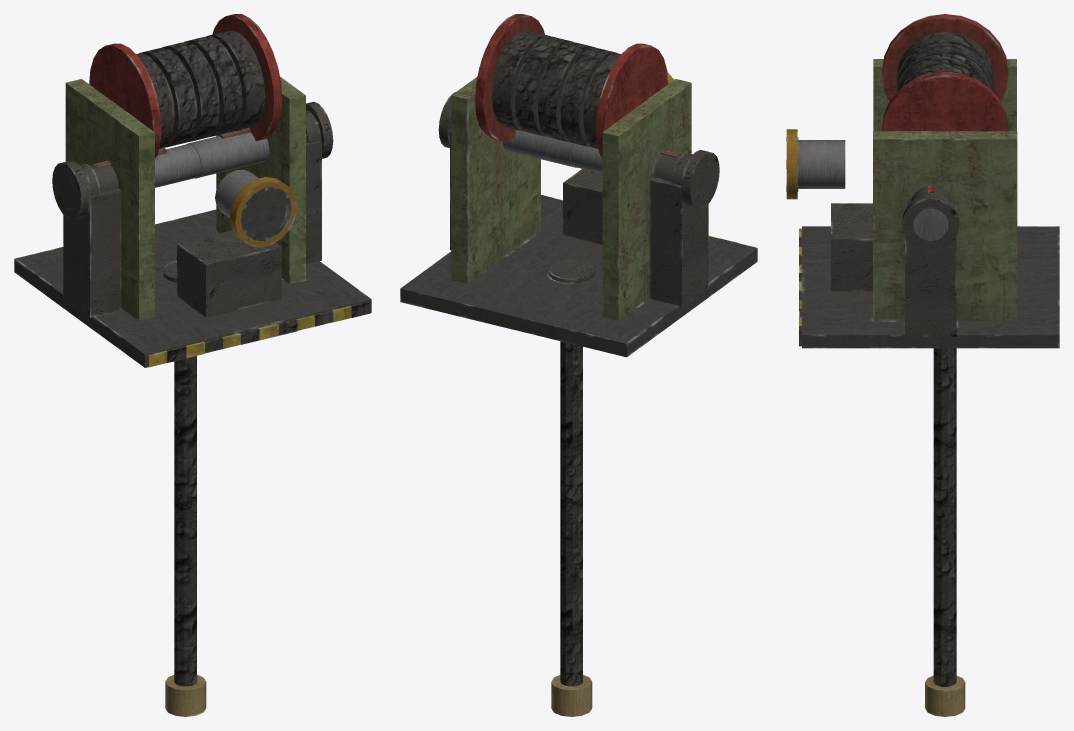
File: feHosePulley_HD.fbx
The picture shows the model from 3 angles, left to right: view 1: azimuth 30°, elevation 25°; view 2: azimuth 150°, elevation 25°; view 3: azimuth 270°, elevation 25°; orthographic projection.
Visible parts, largest first — view 1: feHosePulley_Base, FeSpin_x0.3_Reel, FeReach_Hose, FeSpin_DriveShaft; view 2: feHosePulley_Base, FeSpin_x0.3_Reel, FeReach_Hose, FeSpin_DriveShaft; view 3: feHosePulley_Base, FeSpin_x0.3_Reel, FeReach_Hose, FeSpin_DriveShaft.
Boxes of the visible parts, x1,y1,x2,y2 form: feHosePulley_Base: (14,76,371,367); FeSpin_x0.3_Reel: (89,14,282,158); FeReach_Hose: (165,356,206,716); FeSpin_DriveShaft: (52,102,333,219); feHosePulley_Base: (400,72,757,357); FeSpin_x0.3_Reel: (475,14,668,158); FeReach_Hose: (551,341,592,716); FeSpin_DriveShaft: (438,92,719,209); feHosePulley_Base: (786,59,1059,348); FeSpin_x0.3_Reel: (881,14,1008,131); FeReach_Hose: (925,348,965,716); FeSpin_DriveShaft: (902,186,959,250).
Bounding box in the file's own units: 1 × 2.56 × 0.9566.
Materials: 1 (1 with a texture image).
